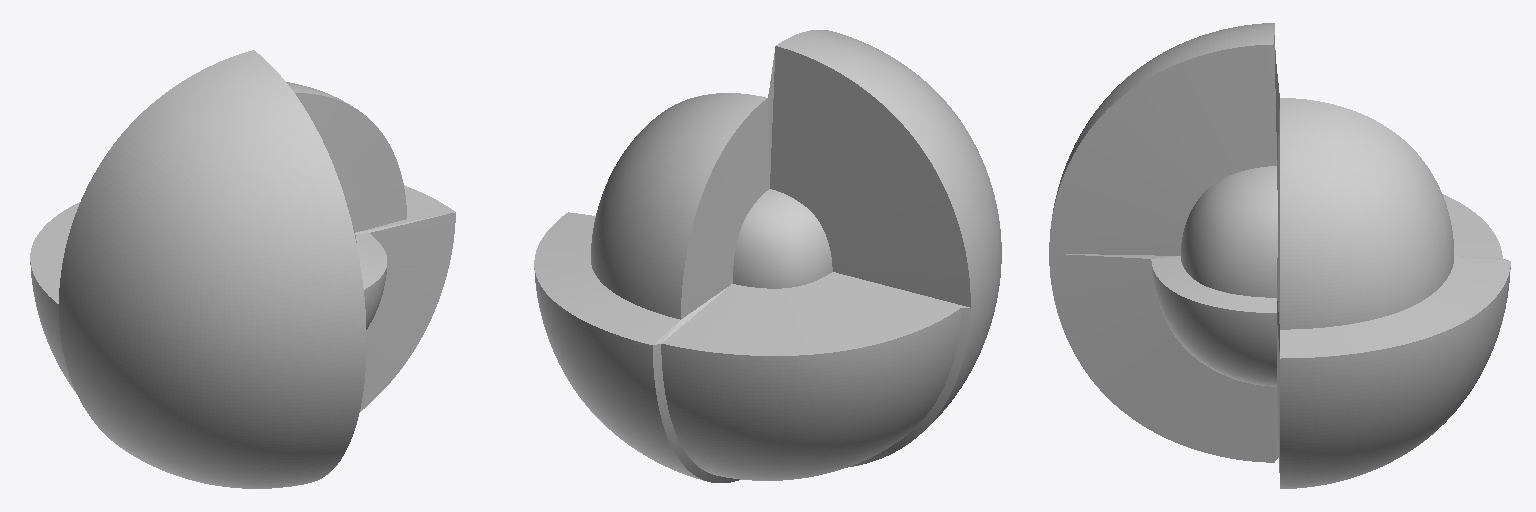
File: broken_moon.obj
3 renders of one model, left to right at view 1: azimuth 30°, elevation 25°; view 2: azimuth 150°, elevation 25°; view 3: azimuth 270°, elevation 25°, orthographic.
Visible parts, largest first — view 1: Cube; view 2: Cube; view 3: Cube.
Boxes of the visible parts, <box> form: Cube: <box>30,50,455,488</box>; Cube: <box>534,30,1001,482</box>; Cube: <box>1049,23,1510,488</box>.
Size of the model in its own units: 2.68 by 2.68 by 2.68.